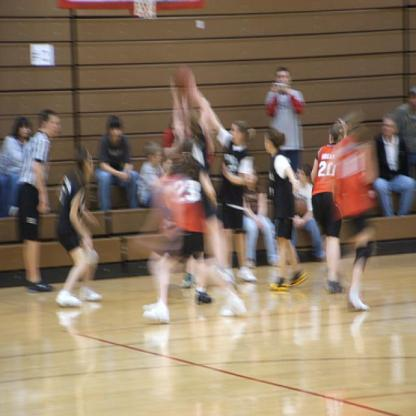basketball: (174, 66, 192, 88)
